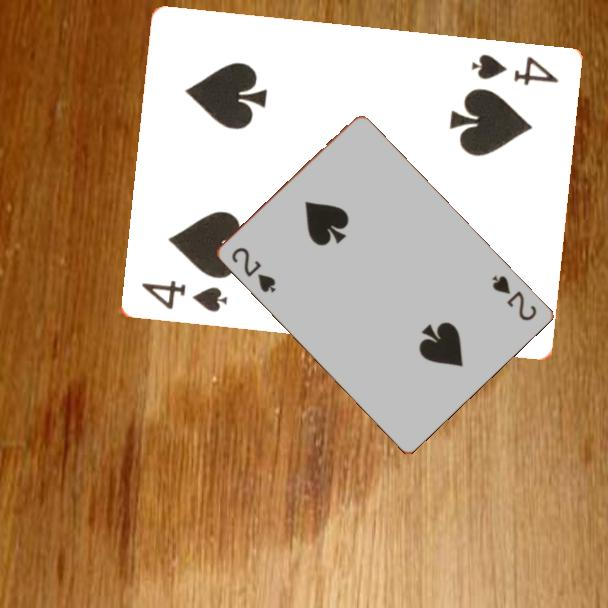s02: (227, 244, 278, 296), (488, 272, 539, 324)
s04: (138, 277, 230, 316), (467, 51, 560, 89)
